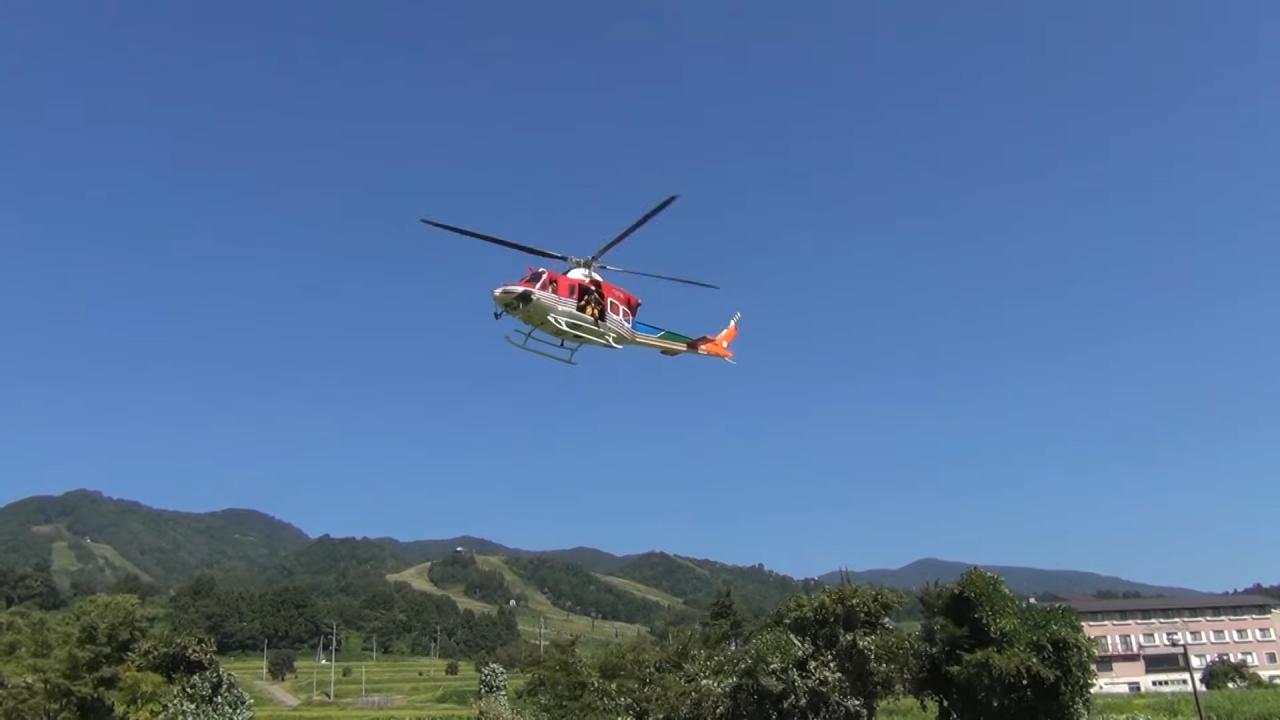Helicopter: (410, 185, 754, 375)
